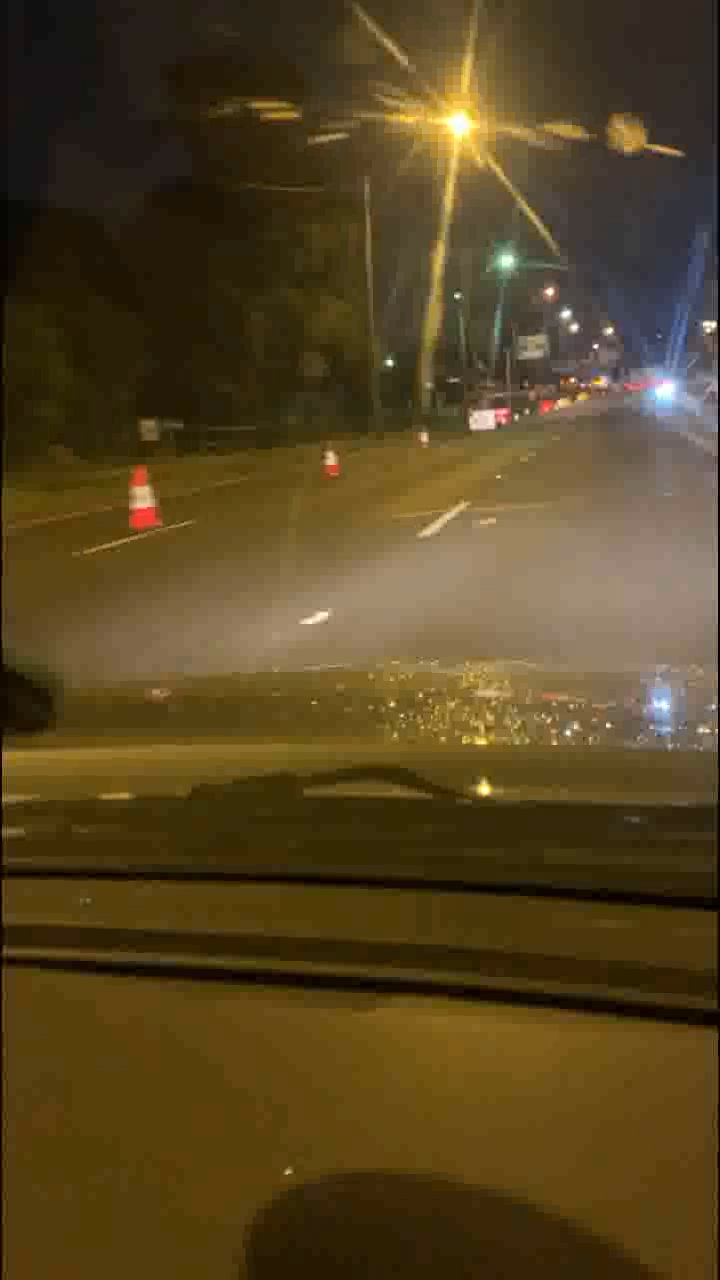road cone: (127, 463, 160, 525), (325, 446, 352, 486)
